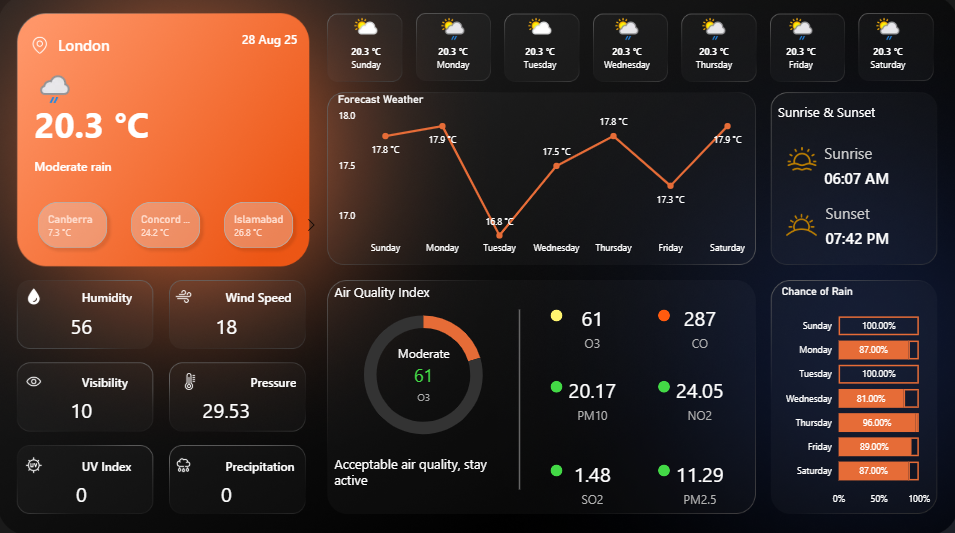

Layout of this report page (visuals, bound fields, positions):
{"tool":"powerbi","page":{"name":"Page 1","canvas":[1280,720],"ordinal":0},"visuals":[{"type":"advancedSlicerVisual","fields":{"Values":["Locations.location.name"]},"box":[16,256,416,96],"z":0},{"type":"shape","box":[48,208,336,32],"z":1000},{"type":"shape","box":[48,128,272,80],"z":2000},{"type":"shape","box":[80,32,224,64],"z":3000},{"type":"image","box":[32,48,48,32],"z":4000},{"type":"shape","box":[304,32,96,48],"z":5000},{"type":"cardVisual","fields":{"Data":["Min(Current Data.current.condition.icon)"]},"box":[16,64,112,112],"z":6000},{"type":"image","box":[32,496,32,32],"z":7000},{"type":"shape","box":[336,496,96,32],"z":8000},{"type":"shape","box":[112,496,96,32],"z":9000},{"type":"shape","box":[304,608,96,32],"z":10000},{"type":"shape","box":[112,608,96,32],"z":11000},{"type":"shape","box":[112,384,96,32],"z":12000},{"type":"shape","box":[304,384,96,32],"z":13000},{"type":"image","box":[32,384,32,32],"z":14000},{"type":"image","box":[224,384,48,32],"z":15000},{"type":"image","box":[240,496,32,32],"z":16000},{"type":"image","box":[32,608,32,32],"z":17000},{"type":"image","box":[224,608,48,32],"z":18000},{"type":"card","fields":{"Values":["Sum(Current Data.current.humidity)"]},"box":[64,416,96,48],"z":19000},{"type":"card","fields":{"Values":["Sum(Current Data.current.wind_kph)"]},"box":[256,416,96,48],"z":20000},{"type":"card","fields":{"Values":["Sum(Current Data.current.pressure_in)"]},"box":[256,528,96,48],"z":21000},{"type":"card","fields":{"Values":["Sum(Current Data.current.vis_km)"]},"box":[64,528,96,48],"z":22000},{"type":"card","fields":{"Values":["Sum(Current Data.current.precip_in)"]},"box":[256,640,96,48],"z":23000},{"type":"card","fields":{"Values":["Sum(Current Data.current.uv)"]},"box":[64,640,96,48],"z":24000},{"type":"advancedSlicerVisual","fields":{"Values":["Forecast Days.Day_Name"]},"box":[432,16,816,96],"z":25000},{"type":"lineChart","title":"Forecast Weather","fields":{"Y":["Sum(Forecast Days.forecast.forecastday.day.avgtemp_c)"],"Category":["Forecast Days.Day_Name"]},"box":[448,128,560,224],"z":26000},{"type":"shape","box":[1040,128,144,48],"z":27000},{"type":"shape","box":[1102,207.7,96,64],"z":28000},{"type":"shape","box":[1104,288,96,64],"z":30000},{"type":"shape","box":[1104,272,80,32],"z":31000},{"type":"shape","box":[1102,191.7,80,32],"z":32000},{"type":"image","box":[1024,272,96,64],"z":33000},{"type":"image","box":[1040,192,64,48],"z":34000},{"type":"hundredPercentStackedBarChart","title":"Chance of Rain","fields":{"Y":["Sum(Forecast Days.forecast.forecastday.day.daily_chance_of_rain)","Current Data.Left_Value_Rain"],"Category":["Forecast Days.Day_Name"]},"box":[1040,384,208,304],"z":35000},{"type":"shape","box":[448,368,144,48],"z":36000},{"type":"card","fields":{"Values":["Sum(Current Data.current.air_quality.co)"]},"box":[880,400,112,80],"z":37000},{"type":"card","fields":{"Values":["Sum(Current Data.current.air_quality.o3)"]},"box":[736,400,112,80],"z":38000},{"type":"card","fields":{"Values":["Sum(Current Data.current.air_quality.pm10)"]},"box":[736,496,112,80],"z":39000},{"type":"card","fields":{"Values":["Sum(Current Data.current.air_quality.no2)"]},"box":[880,496,112,80],"z":40000},{"type":"card","fields":{"Values":["Sum(Current Data.current.air_quality.so2)"]},"box":[736,608,112,80],"z":41000},{"type":"card","fields":{"Values":["Sum(Current Data.current.air_quality.pm2_5)"]},"box":[880,608,112,80],"z":42000},{"type":"shape","box":[736,416,16,16],"z":43000},{"type":"shape","box":[880,416,16,16],"z":44000},{"type":"shape","box":[736,512,16,16],"z":45000},{"type":"shape","box":[880,624,16,16],"z":46000},{"type":"shape","box":[736,624,16,16],"z":47000},{"type":"shape","box":[880,512,16,16],"z":48000},{"type":"shape","box":[624,416,144,240],"z":49000},{"type":"card","fields":{"Values":["Sum(Current Data.current.air_quality.o3)"]},"box":[512,464,112,80],"z":50000},{"type":"donutChart","fields":{"Y":["Sum(Current Data.current.air_quality.o3)","New Table.LeftValueO3"]},"box":[384,400,368,208],"z":51000},{"type":"shape","box":[448,576,240,112],"z":51001}]}

Visuals, with their boxes in screenshot pixels (x1, y1, x2, y2), scaled from the page's 1280x720 canvas onto the 955x533 screenshot:
advancedSlicerVisual - Locations.location.name: <box>12,190,322,261</box>
shape: <box>36,154,286,178</box>
shape: <box>36,95,239,154</box>
shape: <box>60,24,227,71</box>
image: <box>24,36,60,59</box>
shape: <box>227,24,298,59</box>
cardVisual - Min(Current Data.current.condition.icon): <box>12,47,96,130</box>
image: <box>24,367,48,391</box>
shape: <box>251,367,322,391</box>
shape: <box>84,367,155,391</box>
shape: <box>227,450,298,474</box>
shape: <box>84,450,155,474</box>
shape: <box>84,284,155,308</box>
shape: <box>227,284,298,308</box>
image: <box>24,284,48,308</box>
image: <box>167,284,203,308</box>
image: <box>179,367,203,391</box>
image: <box>24,450,48,474</box>
image: <box>167,450,203,474</box>
card - Sum(Current Data.current.humidity): <box>48,308,119,343</box>
card - Sum(Current Data.current.wind_kph): <box>191,308,263,343</box>
card - Sum(Current Data.current.pressure_in): <box>191,391,263,426</box>
card - Sum(Current Data.current.vis_km): <box>48,391,119,426</box>
card - Sum(Current Data.current.precip_in): <box>191,474,263,509</box>
card - Sum(Current Data.current.uv): <box>48,474,119,509</box>
advancedSlicerVisual - Forecast Days.Day_Name: <box>322,12,931,83</box>
"Forecast Weather" lineChart: <box>334,95,752,261</box>
shape: <box>776,95,883,130</box>
shape: <box>822,154,894,201</box>
shape: <box>824,213,895,261</box>
shape: <box>824,201,883,225</box>
shape: <box>822,142,882,166</box>
image: <box>764,201,836,249</box>
image: <box>776,142,824,178</box>
"Chance of Rain" hundredPercentStackedBarChart: <box>776,284,931,509</box>
shape: <box>334,272,442,308</box>
card - Sum(Current Data.current.air_quality.co): <box>657,296,740,355</box>
card - Sum(Current Data.current.air_quality.o3): <box>549,296,633,355</box>
card - Sum(Current Data.current.air_quality.pm10): <box>549,367,633,426</box>
card - Sum(Current Data.current.air_quality.no2): <box>657,367,740,426</box>
card - Sum(Current Data.current.air_quality.so2): <box>549,450,633,509</box>
card - Sum(Current Data.current.air_quality.pm2_5): <box>657,450,740,509</box>
shape: <box>549,308,561,320</box>
shape: <box>657,308,668,320</box>
shape: <box>549,379,561,391</box>
shape: <box>657,462,668,474</box>
shape: <box>549,462,561,474</box>
shape: <box>657,379,668,391</box>
shape: <box>466,308,573,486</box>
card - Sum(Current Data.current.air_quality.o3): <box>382,343,466,403</box>
donutChart - Sum(Current Data.current.air_quality.o3) x New Table.LeftValueO3: <box>286,296,561,450</box>
shape: <box>334,426,513,509</box>
